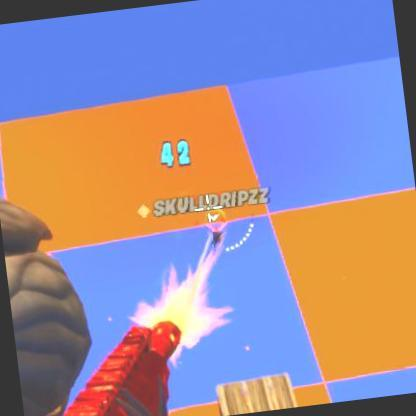person: (207, 217, 229, 253)
